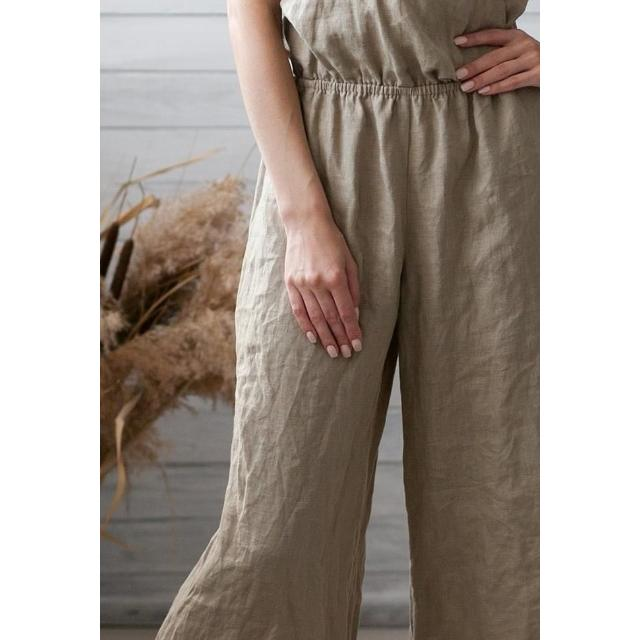linen: (131, 0, 541, 640)
